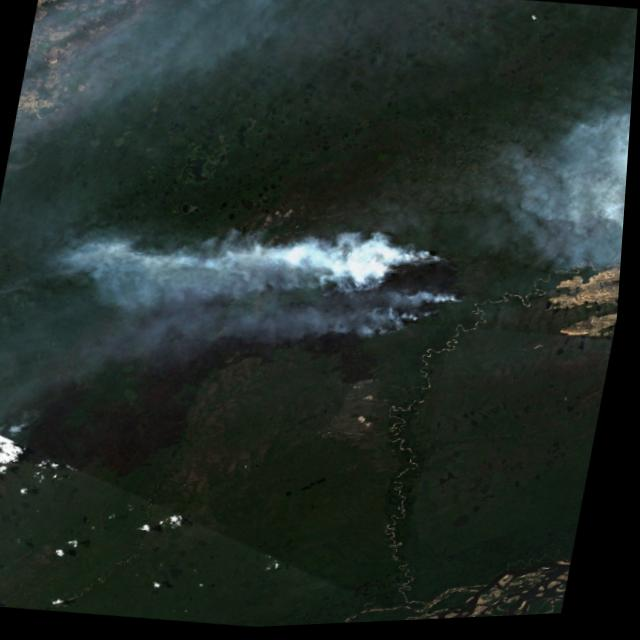fire: (339, 242, 492, 361)
